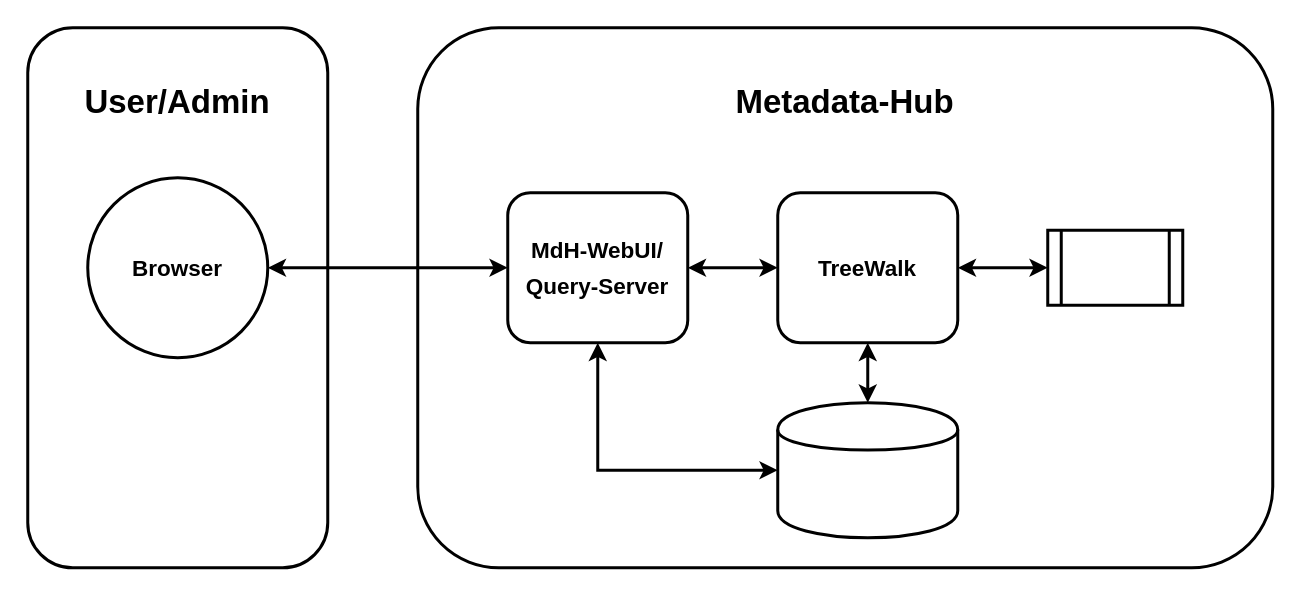
This 1299x594 diagram has some shape labels left out. Here are the shapes that lost their labels. From the top down, the centre of each, then its label:
At point (1115, 267): "ExifTool".
At point (867, 469): "Database".
